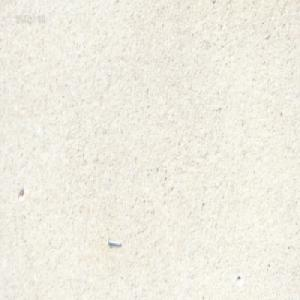Nail: (106, 238, 121, 247)
